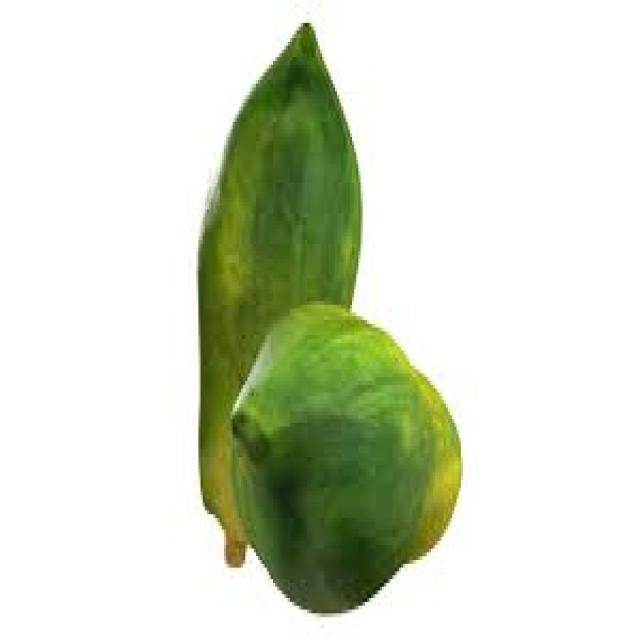Papaya: (200, 29, 350, 510), (231, 322, 472, 607)
